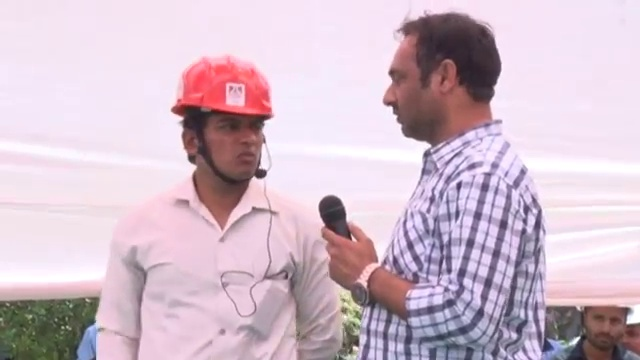helmet: (172, 51, 273, 126)
helmet_off: (387, 13, 497, 134), (571, 308, 637, 356)
helmet_on: (175, 53, 275, 184)
person: (77, 59, 345, 360), (346, 15, 558, 351)
